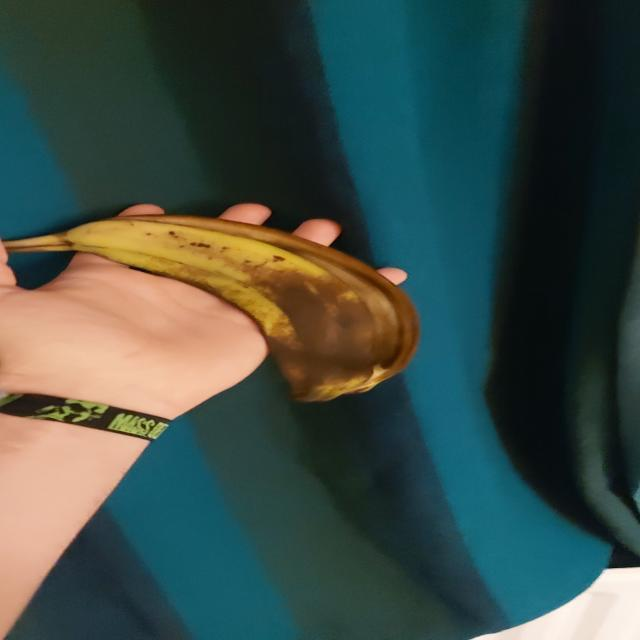banana-peel: (2, 212, 420, 405)
